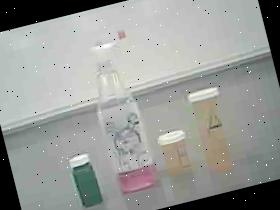Bottle A: (176, 78, 250, 184)
Bottle B: (151, 122, 199, 184)
Bottle C: (62, 144, 110, 210)
hazard: (65, 18, 168, 202)
